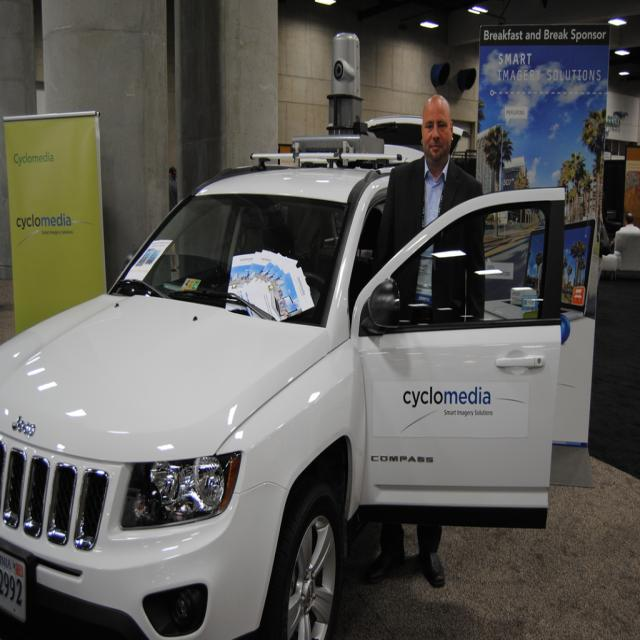car: (9, 123, 557, 624)
